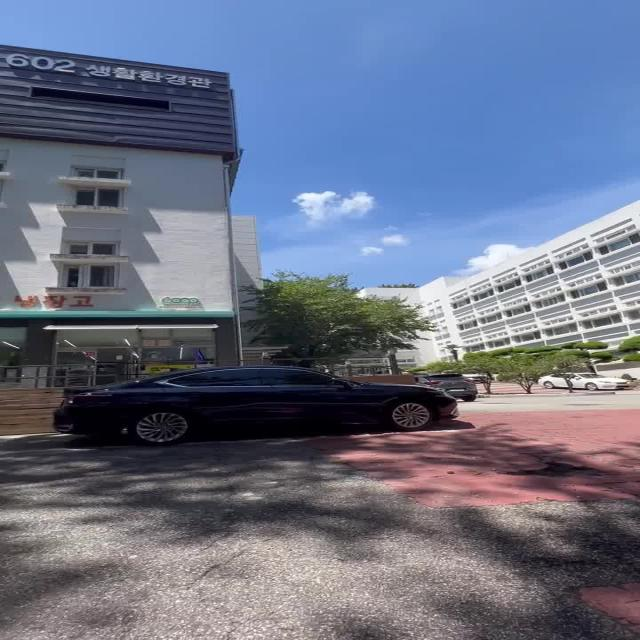building: (0, 40, 258, 367)
